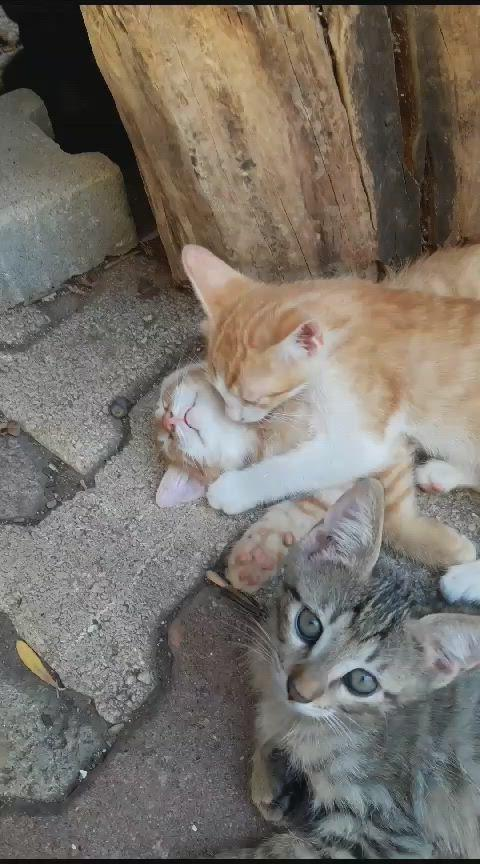kedo: (260, 477, 480, 859)
